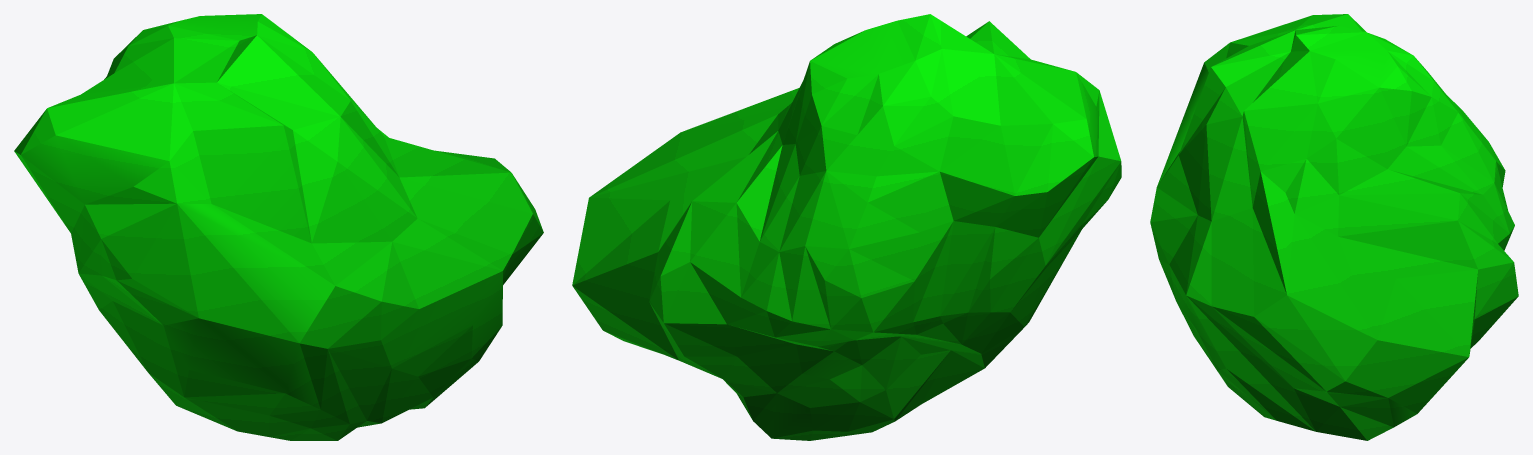
Rendered from Prefab_Foliage_Tree_Oak_Leaves_C.glb.
3 renders of one model, left to right at view 1: azimuth 30°, elevation 25°; view 2: azimuth 150°, elevation 25°; view 3: azimuth 270°, elevation 25°, orthographic. The views are drawn at different scales.
Visible parts, largest first — view 1: OakTree_A_Trunk.006; view 2: OakTree_A_Trunk.006; view 3: OakTree_A_Trunk.006.
Boxes of the visible parts, x1,y1,x2,y2 form: OakTree_A_Trunk.006: (14, 14, 543, 440); OakTree_A_Trunk.006: (572, 14, 1121, 440); OakTree_A_Trunk.006: (1150, 14, 1518, 440).
Size of the model in its own units: 5.27 by 4.21 by 4.01.
Materials: 1 (1 with a texture image).
